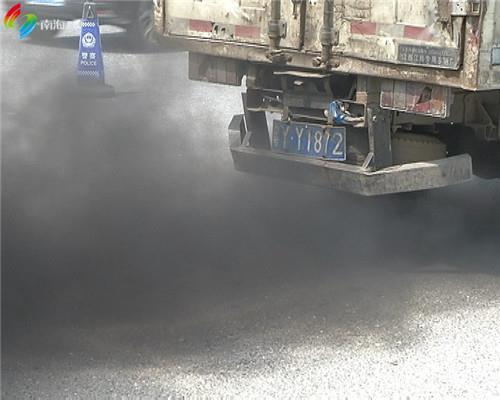smoke: (1, 113, 426, 334)
